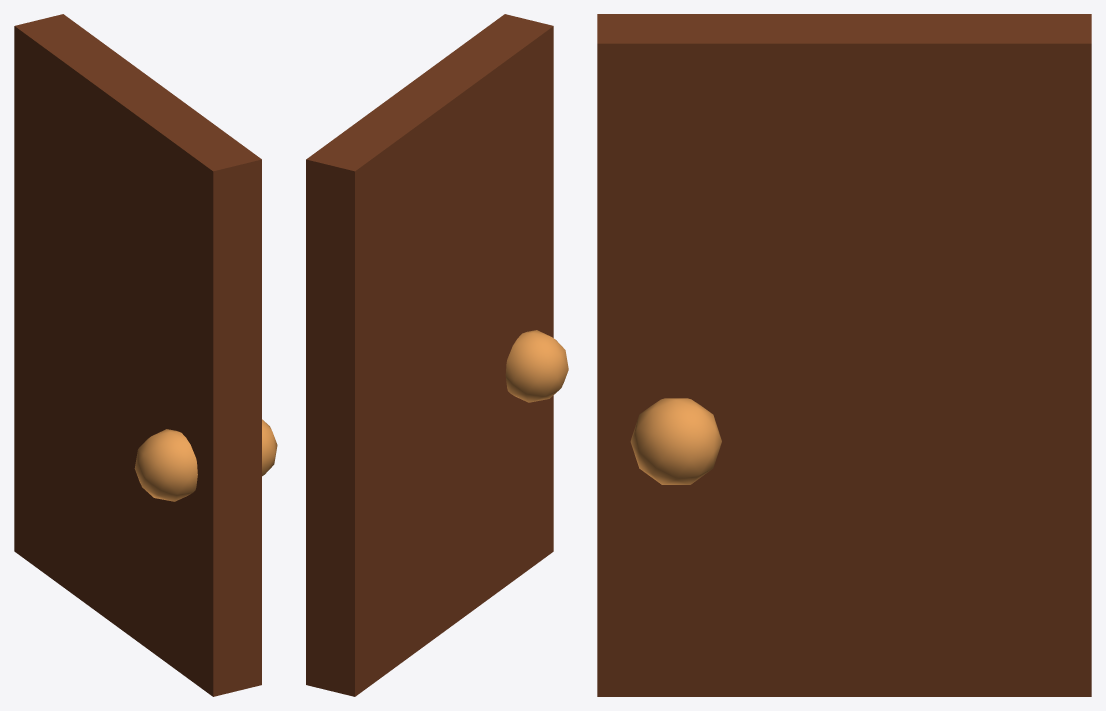
File: Door.fbx
The picture shows the model from 3 angles, left to right: view 1: azimuth 30°, elevation 25°; view 2: azimuth 150°, elevation 25°; view 3: azimuth 270°, elevation 25°; orthographic projection. The views are drawn at different scales.
Parts seen in each view (by area): view 1: Door; view 2: Door; view 3: Door.
Boxes of the visible parts, x1,y1,x2,y2 form: Door: (14,14,277,696); Door: (306,14,568,696); Door: (597,14,1091,696).
Bounding box in the file's own units: 119 × 455 × 312.
